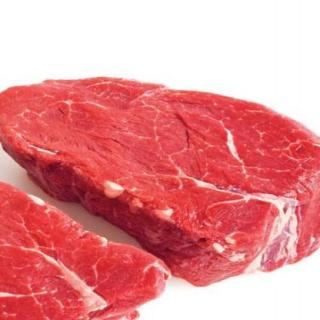Daging Sapi: (1, 78, 319, 283)
